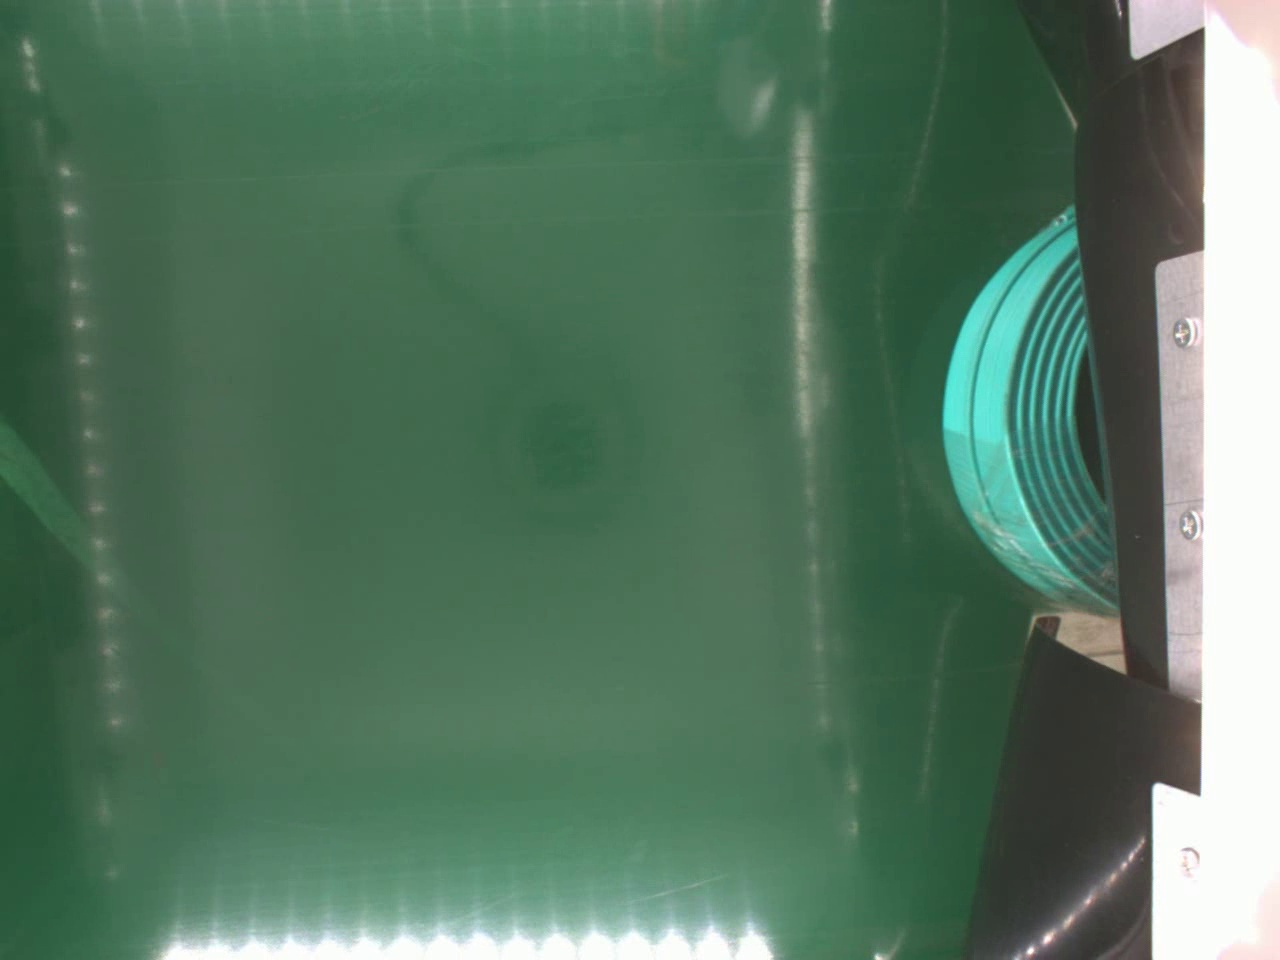green: (936, 205, 1117, 616)
